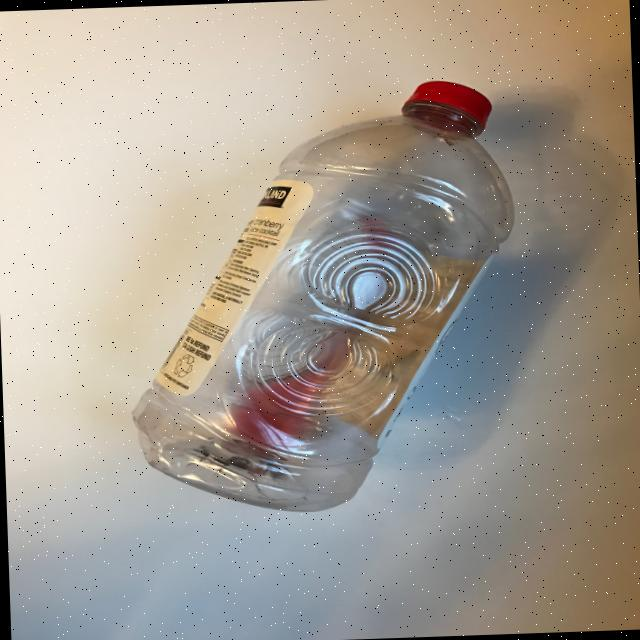plastic: (119, 77, 525, 518)
